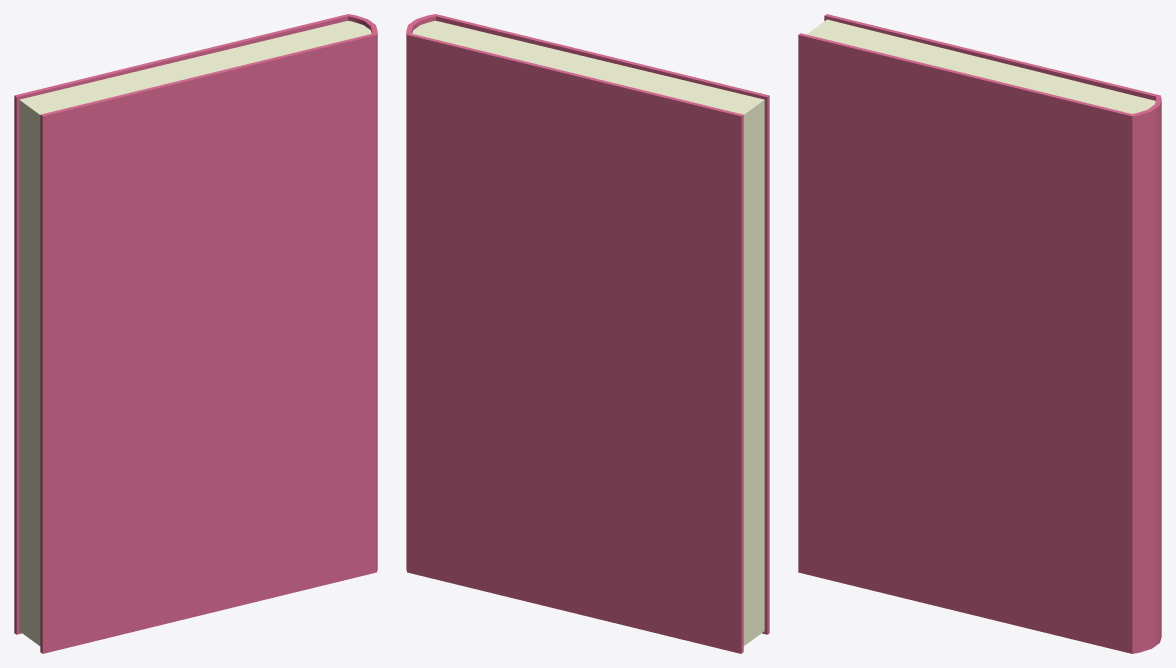
File: newbook9.fbx
3 renders of one model, left to right at view 1: azimuth 30°, elevation 25°; view 2: azimuth 150°, elevation 25°; view 3: azimuth 330°, elevation 25°, orthographic.
Parts seen in each view (by area): view 1: Book9; view 2: Book9; view 3: Book9.
Part boxes in pixels (bbox=[...]): Book9: bbox=[14, 14, 377, 653]; Book9: bbox=[406, 14, 769, 653]; Book9: bbox=[798, 14, 1161, 653].
Bounding box in the file's own units: 14.32 × 21.43 × 2.06.
